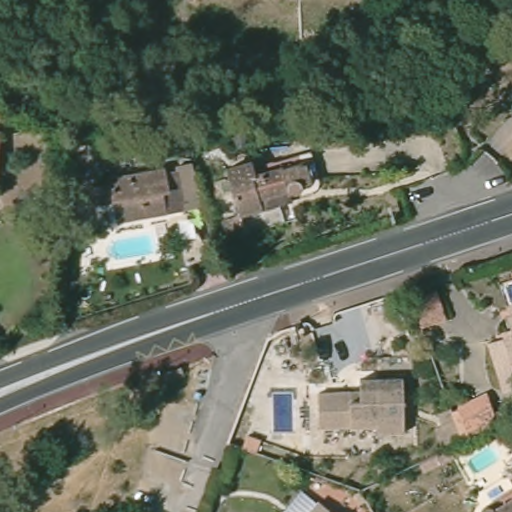pool: (106, 231, 164, 264), (264, 385, 302, 432), (463, 448, 501, 472)
